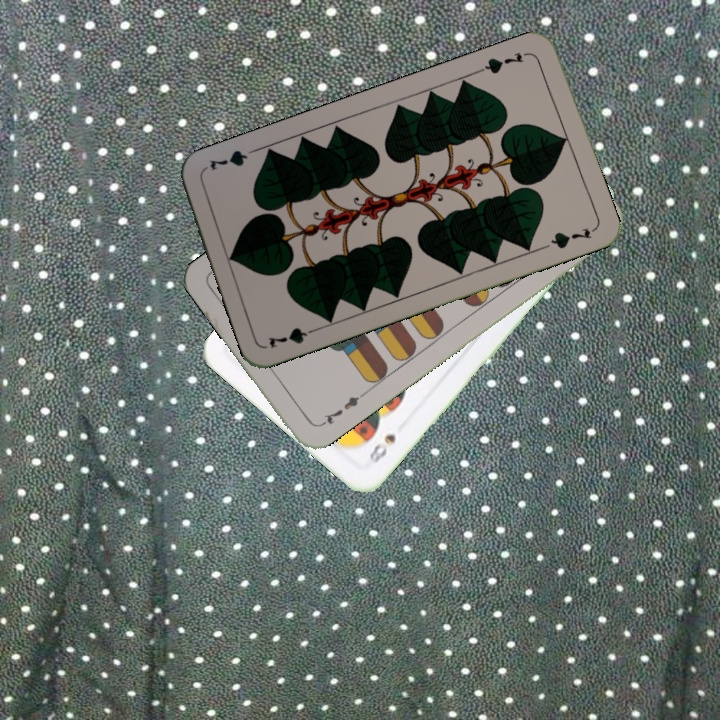E7: (314, 390, 366, 430)
G7: (475, 47, 532, 76), (264, 323, 322, 351)
S8: (363, 430, 398, 467)
